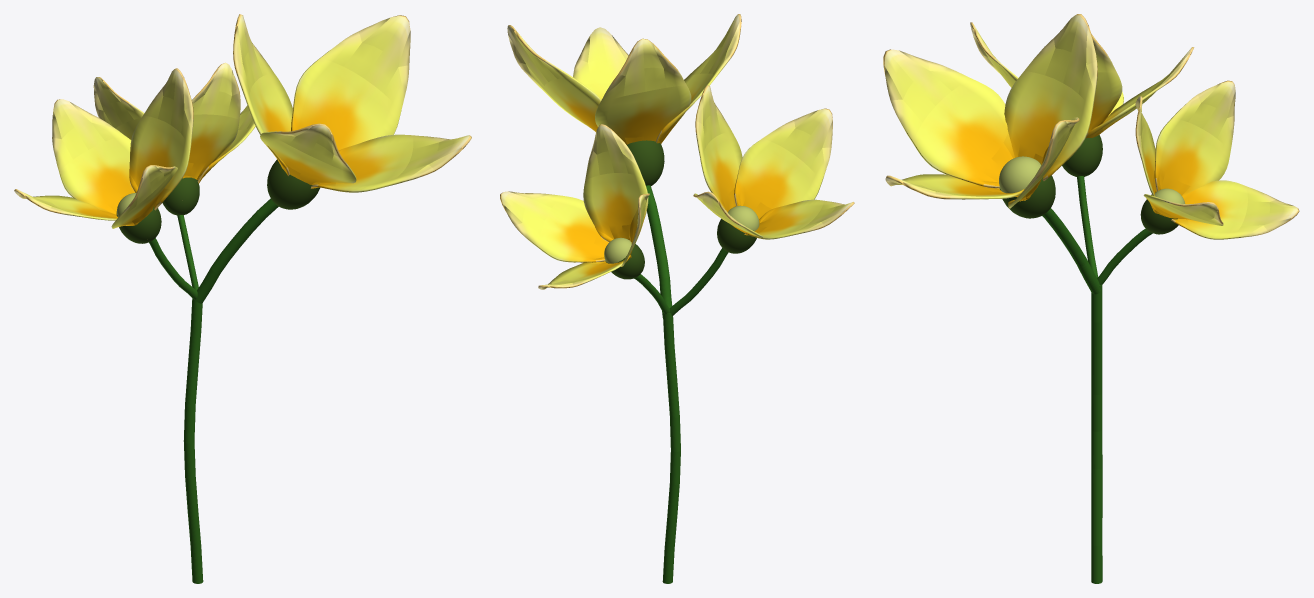
The picture shows the model from 3 angles, left to right: view 1: azimuth 30°, elevation 25°; view 2: azimuth 150°, elevation 25°; view 3: azimuth 270°, elevation 25°; orthographic projection. The views are drawn at different scales.
Visible parts, largest first — view 1: f04; view 2: f04; view 3: f04.
Part boxes in pixels (x1,y1,x2,y2): f04: (14, 14, 471, 583); f04: (500, 14, 854, 583); f04: (883, 14, 1299, 583).
Bounding box in the file's own units: 0.4846 × 0.685 × 0.4417.
Materials: 5 (1 with a texture image).
